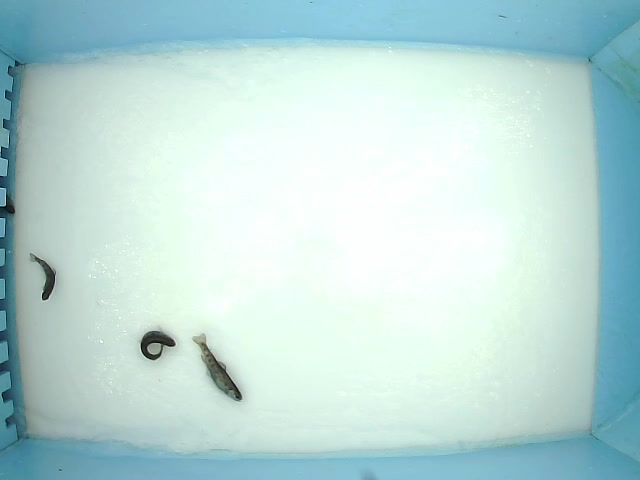fish: (191, 331, 244, 403), (137, 324, 176, 362), (29, 253, 57, 302)
